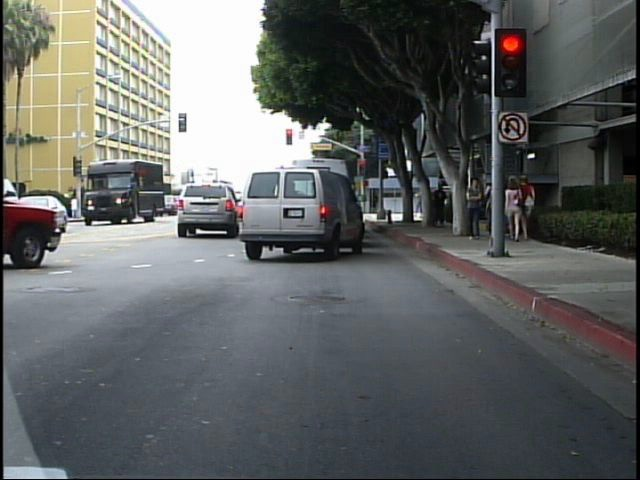person: (518, 171, 542, 246), (504, 170, 527, 245), (467, 175, 487, 242), (432, 175, 449, 230), (65, 190, 81, 222), (412, 185, 424, 217)
